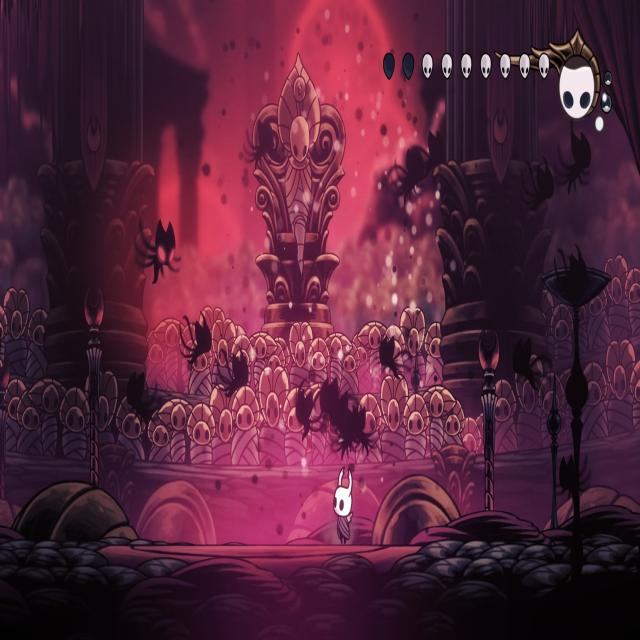Player: (332, 462, 356, 549)
Staggered_Grimm: (132, 214, 182, 285)
